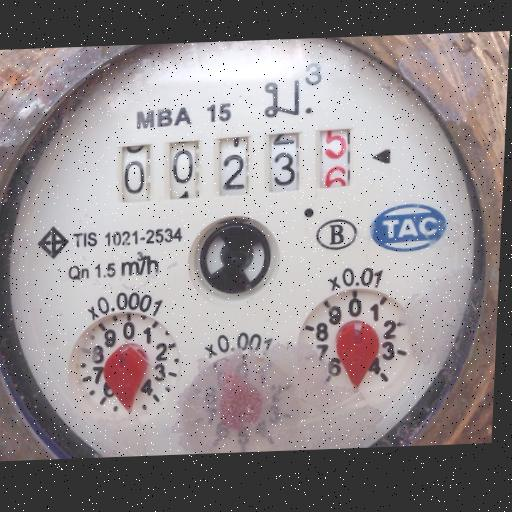0: (167, 138, 202, 200), (118, 144, 152, 204)
2: (217, 136, 252, 196)
3: (267, 132, 302, 192)
5: (318, 126, 351, 192)
border_water_meter_number: (112, 118, 363, 216)
